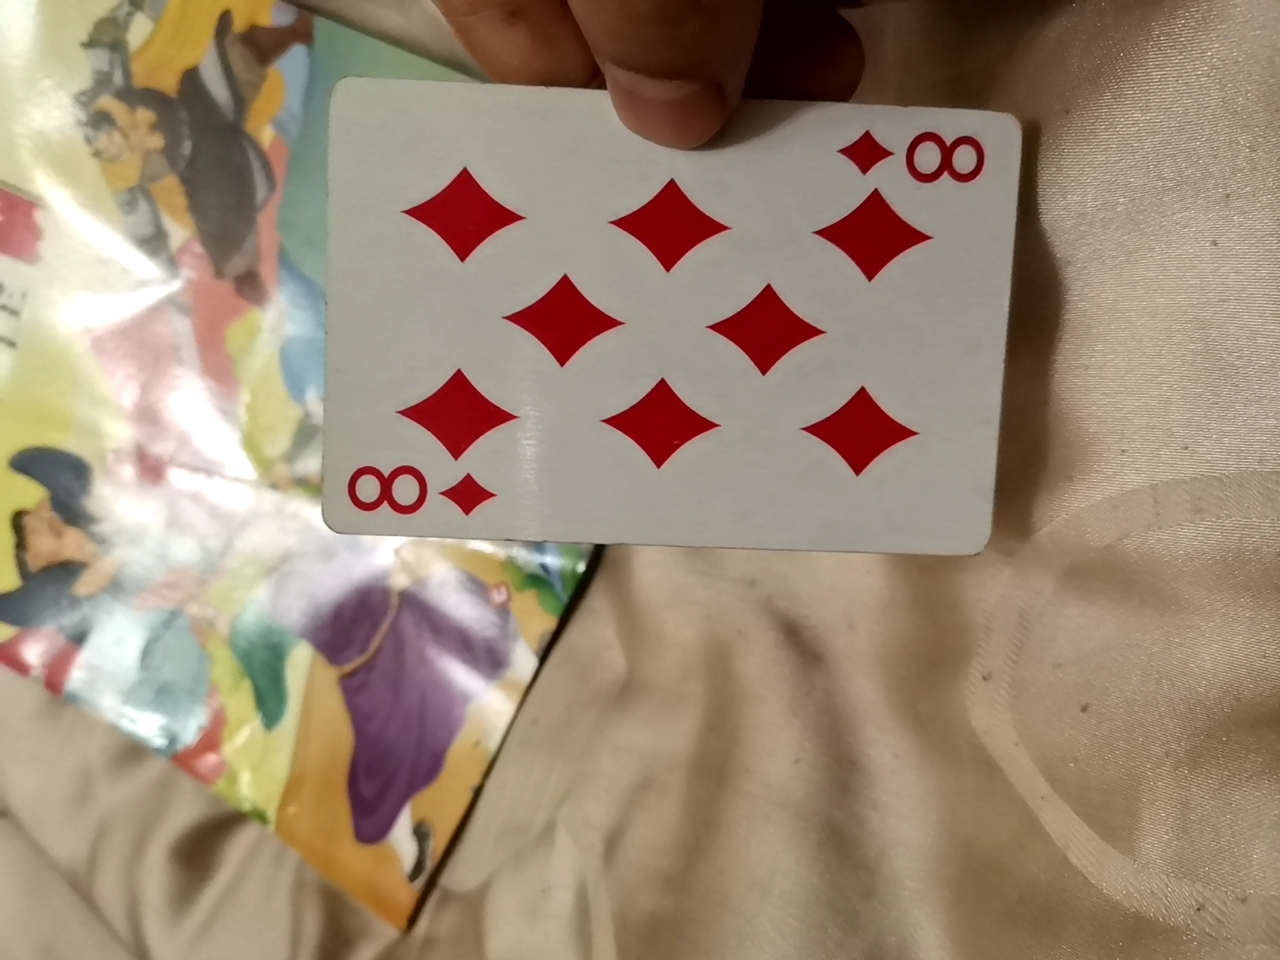fk 8: (315, 77, 1028, 561)
